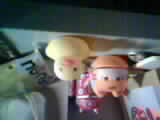duck: (28, 32, 104, 88)
